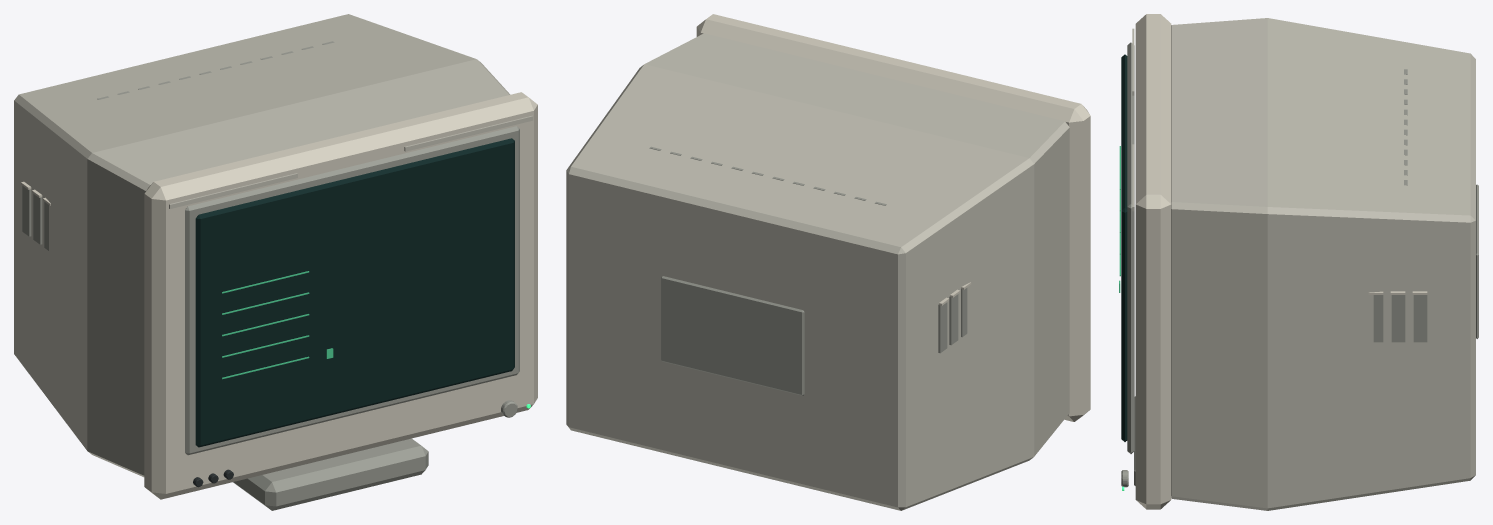
The model's file is aged_crt_monitor.glb.
3 views of the same model, side by side, from view 1: azimuth 30°, elevation 25°; view 2: azimuth 150°, elevation 25°; view 3: azimuth 270°, elevation 25° (orthographic).
Parts seen in each view (by area): view 1: aged_crt_monitor__AgedIvory, aged_crt_monitor__CRTGlass, aged_crt_monitor__PlasticEdge, aged_crt_monitor__PlasticGrime, aged_crt_monitor__Phosphor; view 2: aged_crt_monitor__AgedIvory, aged_crt_monitor__PlasticEdge, aged_crt_monitor__PlasticGrime; view 3: aged_crt_monitor__AgedIvory, aged_crt_monitor__PlasticEdge, aged_crt_monitor__PlasticGrime, aged_crt_monitor__CRTGlass.
Boxes of the visible parts, x1,y1,x2,y2 form: aged_crt_monitor__AgedIvory: (14, 14, 533, 477); aged_crt_monitor__CRTGlass: (195, 138, 514, 447); aged_crt_monitor__PlasticEdge: (21, 92, 537, 499); aged_crt_monitor__PlasticGrime: (22, 41, 519, 510); aged_crt_monitor__Phosphor: (222, 271, 333, 379); aged_crt_monitor__AgedIvory: (566, 33, 1069, 510); aged_crt_monitor__PlasticEdge: (696, 14, 1090, 421); aged_crt_monitor__PlasticGrime: (649, 146, 967, 395); aged_crt_monitor__AgedIvory: (1132, 18, 1475, 510); aged_crt_monitor__PlasticEdge: (1135, 14, 1427, 509); aged_crt_monitor__PlasticGrime: (1121, 42, 1478, 487); aged_crt_monitor__CRTGlass: (1121, 54, 1127, 441).
Size of the model in its own units: 0.77 by 0.652 by 0.605.
